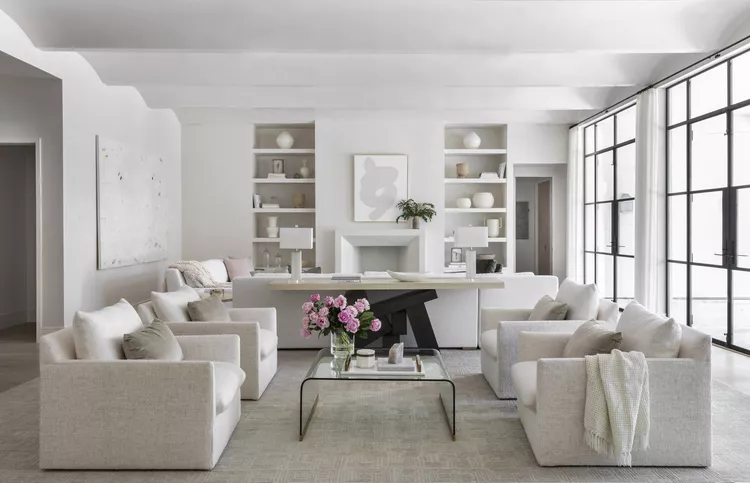chair: (35, 297, 243, 472), (509, 300, 715, 472), (477, 279, 622, 400), (137, 284, 283, 401)
flower vase: (298, 289, 383, 362)
small plant: (395, 197, 437, 229)
table: (298, 347, 457, 444)
table lamp: (276, 223, 316, 282), (453, 222, 491, 278)
wall art: (92, 133, 174, 271), (350, 151, 410, 224)
